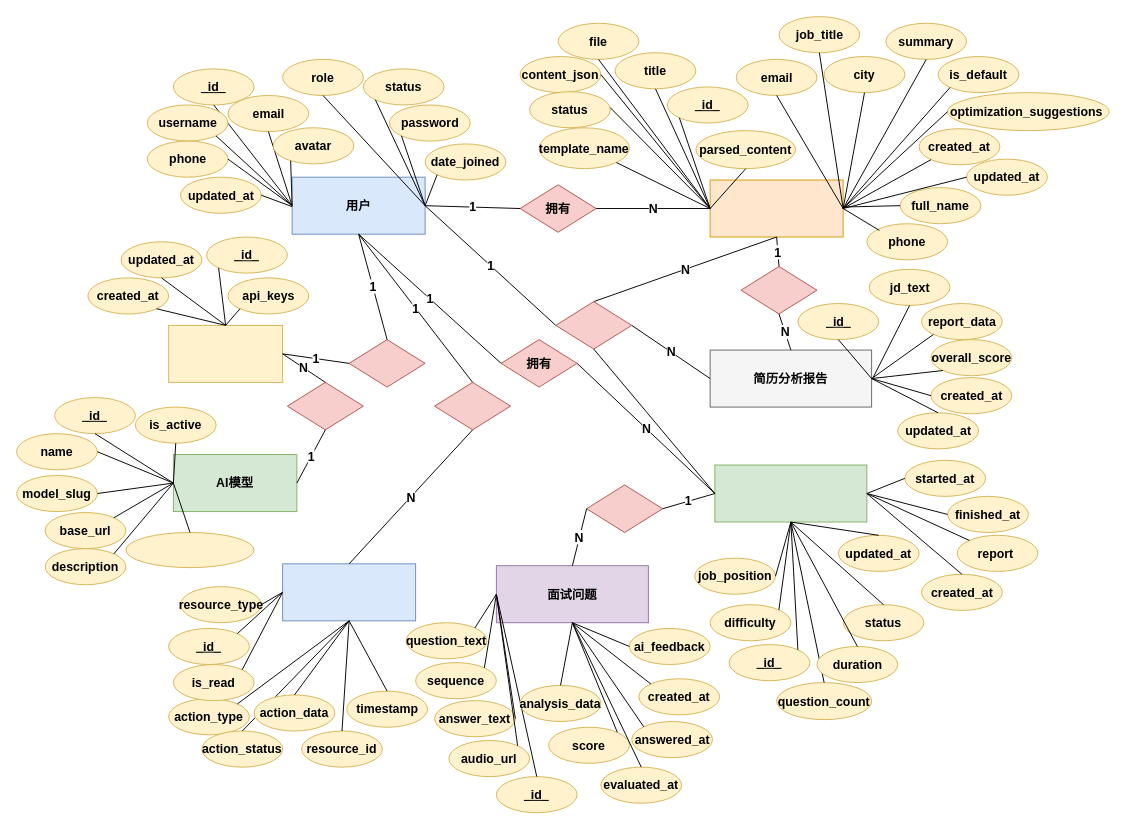
The diagram is 1126 pixels wide and 829 high, and some of its shapes have lost their labels. Each missing label, with the centre of its shape:
"AI设置" belongs at pixel 225 353.
"supports_json_mode" belongs at pixel 189 550.
"产生" belongs at pixel 472 405.
"创建" belongs at pixel 593 325.
"包含" belongs at pixel 624 508.
"操作日志" belongs at pixel 349 592.
"简历" belongs at pixel 776 208.
"诊断" belongs at pixel 778 290.
"选用" belongs at pixel 324 405.
"配置" belongs at pixel 386 363.
"面试会话" belongs at pixel 790 493.
